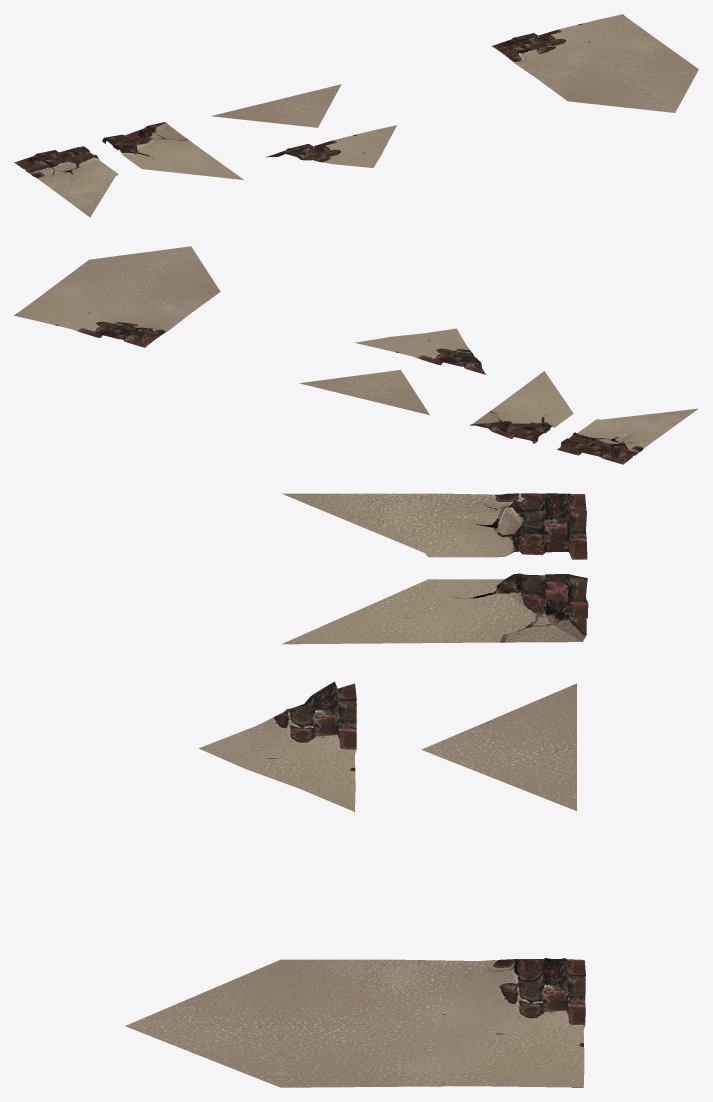
File: Wall Bricks Diagonal.FBX
The picture shows the model from 3 angles, top to bottom: view 1: azimuth 30°, elevation 25°; view 2: azimuth 150°, elevation 25°; view 3: azimuth 270°, elevation 25°; orthographic projection. The views are drawn at different scales.
Visible parts, largest first — view 1: Wall Hole Bricks Triangle Top, Wall Half Bricks Half Diagonal, Wall Half Bricks Half 2 Diagonal, Wall Bricks Clean Triangle Small, Wall Bricks Triangle Small; view 2: Wall Hole Bricks Triangle Top, Wall Half Bricks Half 2 Diagonal, Wall Half Bricks Half Diagonal, Wall Bricks Triangle Small, Wall Bricks Clean Triangle Small; view 3: Wall Hole Bricks Triangle Top, Wall Half Bricks Half Diagonal, Wall Half Bricks Half 2 Diagonal, Wall Bricks Triangle Small, Wall Bricks Clean Triangle Small.
Boxes of the visible parts, left/top/right/bottom form: Wall Hole Bricks Triangle Top: left=491, top=14, right=698, bottom=112; Wall Half Bricks Half Diagonal: left=102, top=122, right=243, bottom=179; Wall Half Bricks Half 2 Diagonal: left=14, top=146, right=118, bottom=217; Wall Bricks Clean Triangle Small: left=211, top=84, right=341, bottom=127; Wall Bricks Triangle Small: left=266, top=125, right=396, bottom=167; Wall Hole Bricks Triangle Top: left=14, top=246, right=220, bottom=347; Wall Half Bricks Half 2 Diagonal: left=557, top=408, right=698, bottom=464; Wall Half Bricks Half Diagonal: left=470, top=371, right=573, bottom=443; Wall Bricks Triangle Small: left=354, top=328, right=485, bottom=374; Wall Bricks Clean Triangle Small: left=299, top=370, right=429, bottom=415; Wall Hole Bricks Triangle Top: left=125, top=958, right=585, bottom=1087; Wall Half Bricks Half Diagonal: left=281, top=573, right=588, bottom=644; Wall Half Bricks Half 2 Diagonal: left=282, top=493, right=587, bottom=559; Wall Bricks Triangle Small: left=199, top=681, right=356, bottom=811; Wall Bricks Clean Triangle Small: left=421, top=683, right=576, bottom=810.
Bounding box in the file's own units: 1143 × 377 × 14.13.
Materials: 1 (1 with a texture image).
